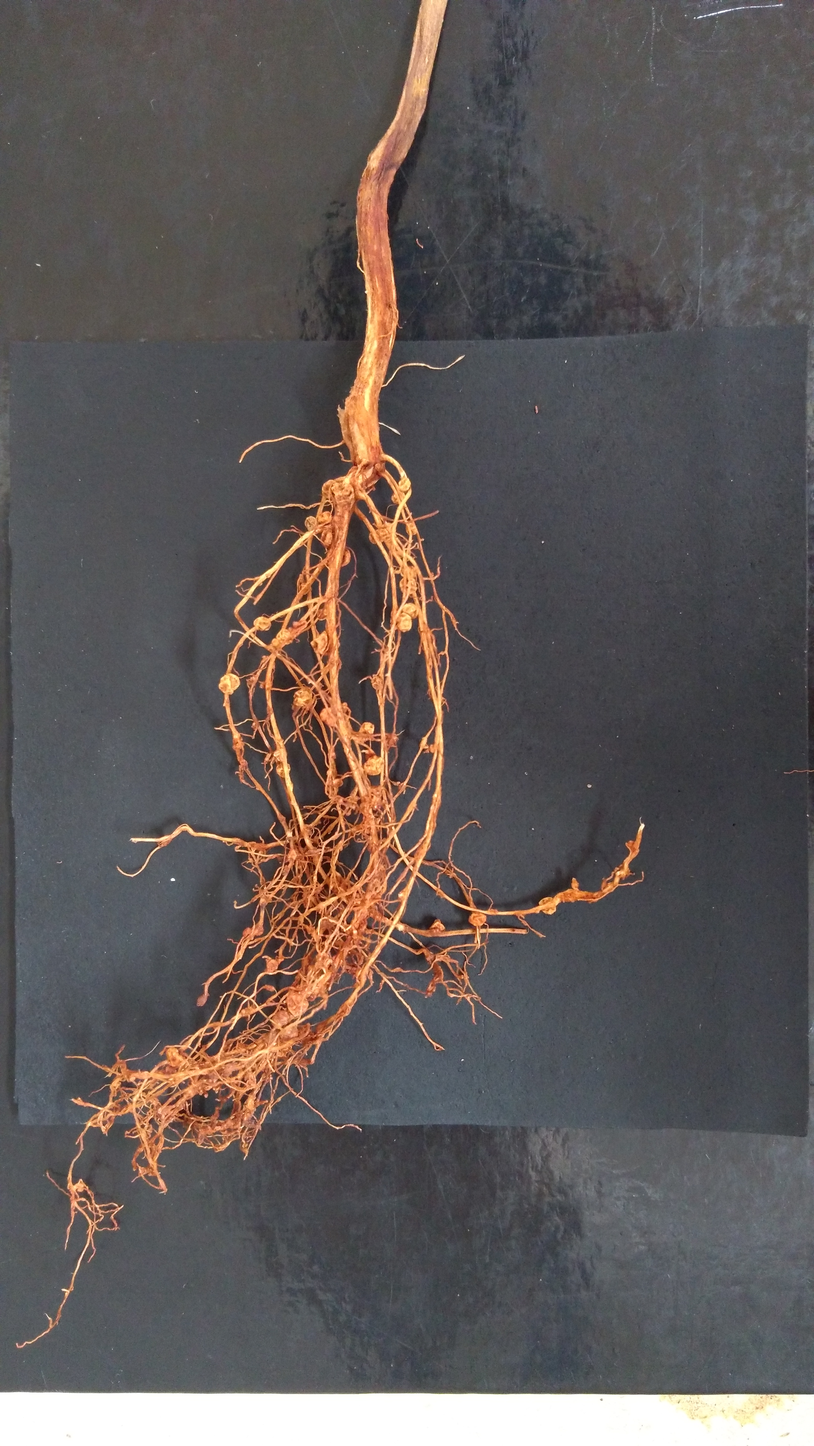nodule: (310, 630, 340, 656), (165, 1058, 191, 1088), (286, 991, 309, 1017), (331, 481, 355, 505), (366, 784, 386, 812), (154, 1104, 176, 1127), (363, 754, 385, 776), (218, 673, 240, 695), (296, 981, 319, 1002), (241, 1093, 257, 1121), (292, 687, 314, 707), (319, 706, 339, 727), (356, 722, 375, 744), (366, 863, 385, 884), (187, 1058, 201, 1086), (199, 1071, 218, 1091), (261, 1031, 280, 1051), (315, 951, 333, 972), (353, 963, 374, 981), (271, 1010, 290, 1029), (296, 1025, 314, 1045), (400, 576, 417, 597), (165, 1046, 182, 1067), (538, 897, 557, 915), (345, 925, 363, 944), (396, 612, 413, 632), (363, 816, 381, 834), (305, 962, 324, 979), (279, 1025, 298, 1042), (319, 527, 334, 548), (320, 915, 341, 930), (221, 1062, 243, 1076), (231, 1100, 242, 1128), (275, 628, 292, 646), (368, 529, 387, 545), (468, 911, 487, 927), (321, 480, 337, 499), (381, 522, 395, 543), (402, 602, 419, 619), (351, 916, 368, 933), (275, 761, 291, 779), (253, 616, 272, 631), (301, 889, 315, 909), (400, 565, 418, 579), (329, 870, 342, 889), (370, 675, 385, 691), (317, 510, 332, 526), (339, 548, 351, 568), (384, 731, 398, 748), (298, 824, 313, 839), (429, 918, 445, 932), (304, 516, 318, 532), (265, 957, 278, 974), (397, 478, 411, 493), (273, 747, 287, 762), (183, 1086, 198, 1100), (391, 491, 407, 504), (354, 907, 369, 920), (405, 522, 418, 536), (251, 923, 264, 936), (240, 1006, 255, 1017), (300, 582, 312, 595), (316, 608, 328, 621), (424, 950, 436, 962), (295, 852, 304, 868), (71, 1182, 84, 1193), (242, 1070, 255, 1081), (571, 877, 580, 892), (287, 848, 296, 863), (332, 778, 344, 788), (326, 768, 338, 778), (236, 1041, 246, 1053), (212, 1079, 220, 1094), (340, 701, 349, 714), (242, 926, 251, 938), (298, 572, 307, 584), (419, 740, 429, 750), (274, 954, 284, 964), (306, 924, 316, 934), (246, 675, 255, 686), (398, 889, 406, 901), (239, 759, 248, 769), (282, 1045, 292, 1054), (264, 984, 275, 992), (282, 865, 289, 877), (270, 638, 279, 647), (141, 1070, 150, 1079), (374, 463, 382, 473), (489, 907, 498, 915), (292, 620, 301, 628), (255, 578, 263, 587), (429, 743, 436, 753), (247, 1043, 257, 1050), (258, 681, 266, 689), (236, 741, 244, 749), (336, 796, 343, 805), (334, 844, 343, 851), (251, 721, 257, 730), (448, 871, 455, 878), (331, 751, 336, 759), (261, 655, 269, 660), (287, 626, 293, 632), (355, 892, 360, 899), (198, 1089, 203, 1096), (129, 1077, 136, 1082), (429, 571, 434, 577), (459, 974, 464, 980), (535, 909, 540, 914), (248, 857, 253, 862), (258, 850, 263, 855), (239, 736, 243, 741), (232, 745, 236, 750), (327, 830, 332, 834), (204, 1093, 208, 1098)
